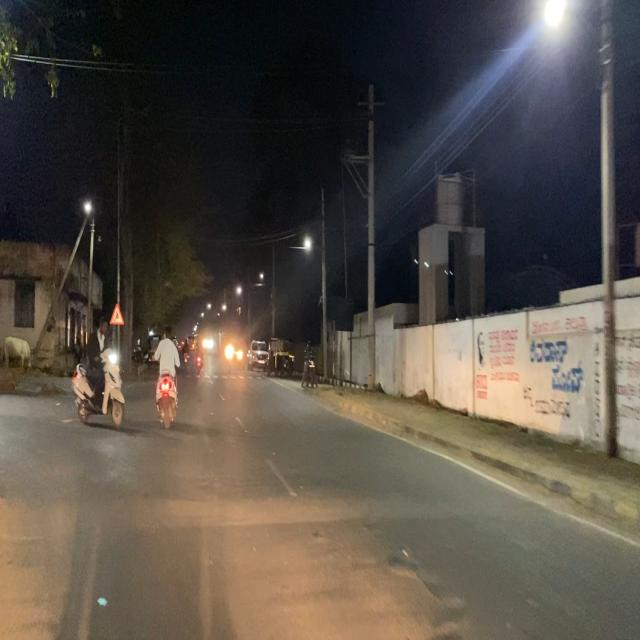bien_cam: (110, 302, 124, 326)
